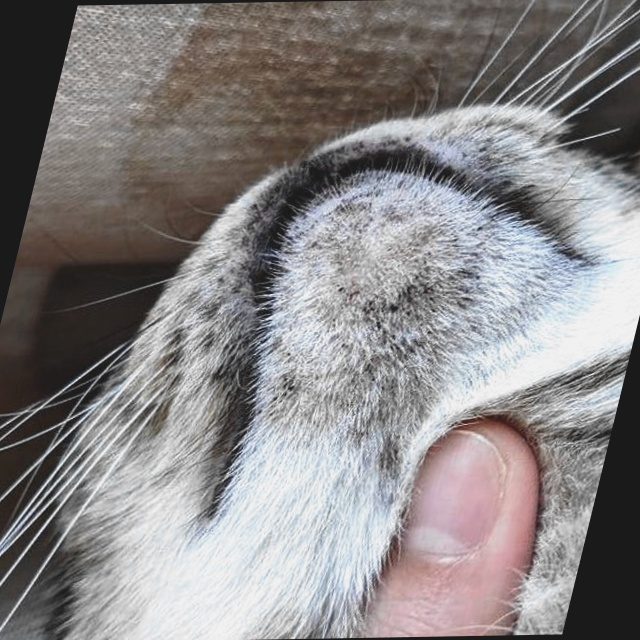acne: (253, 212, 503, 444)
